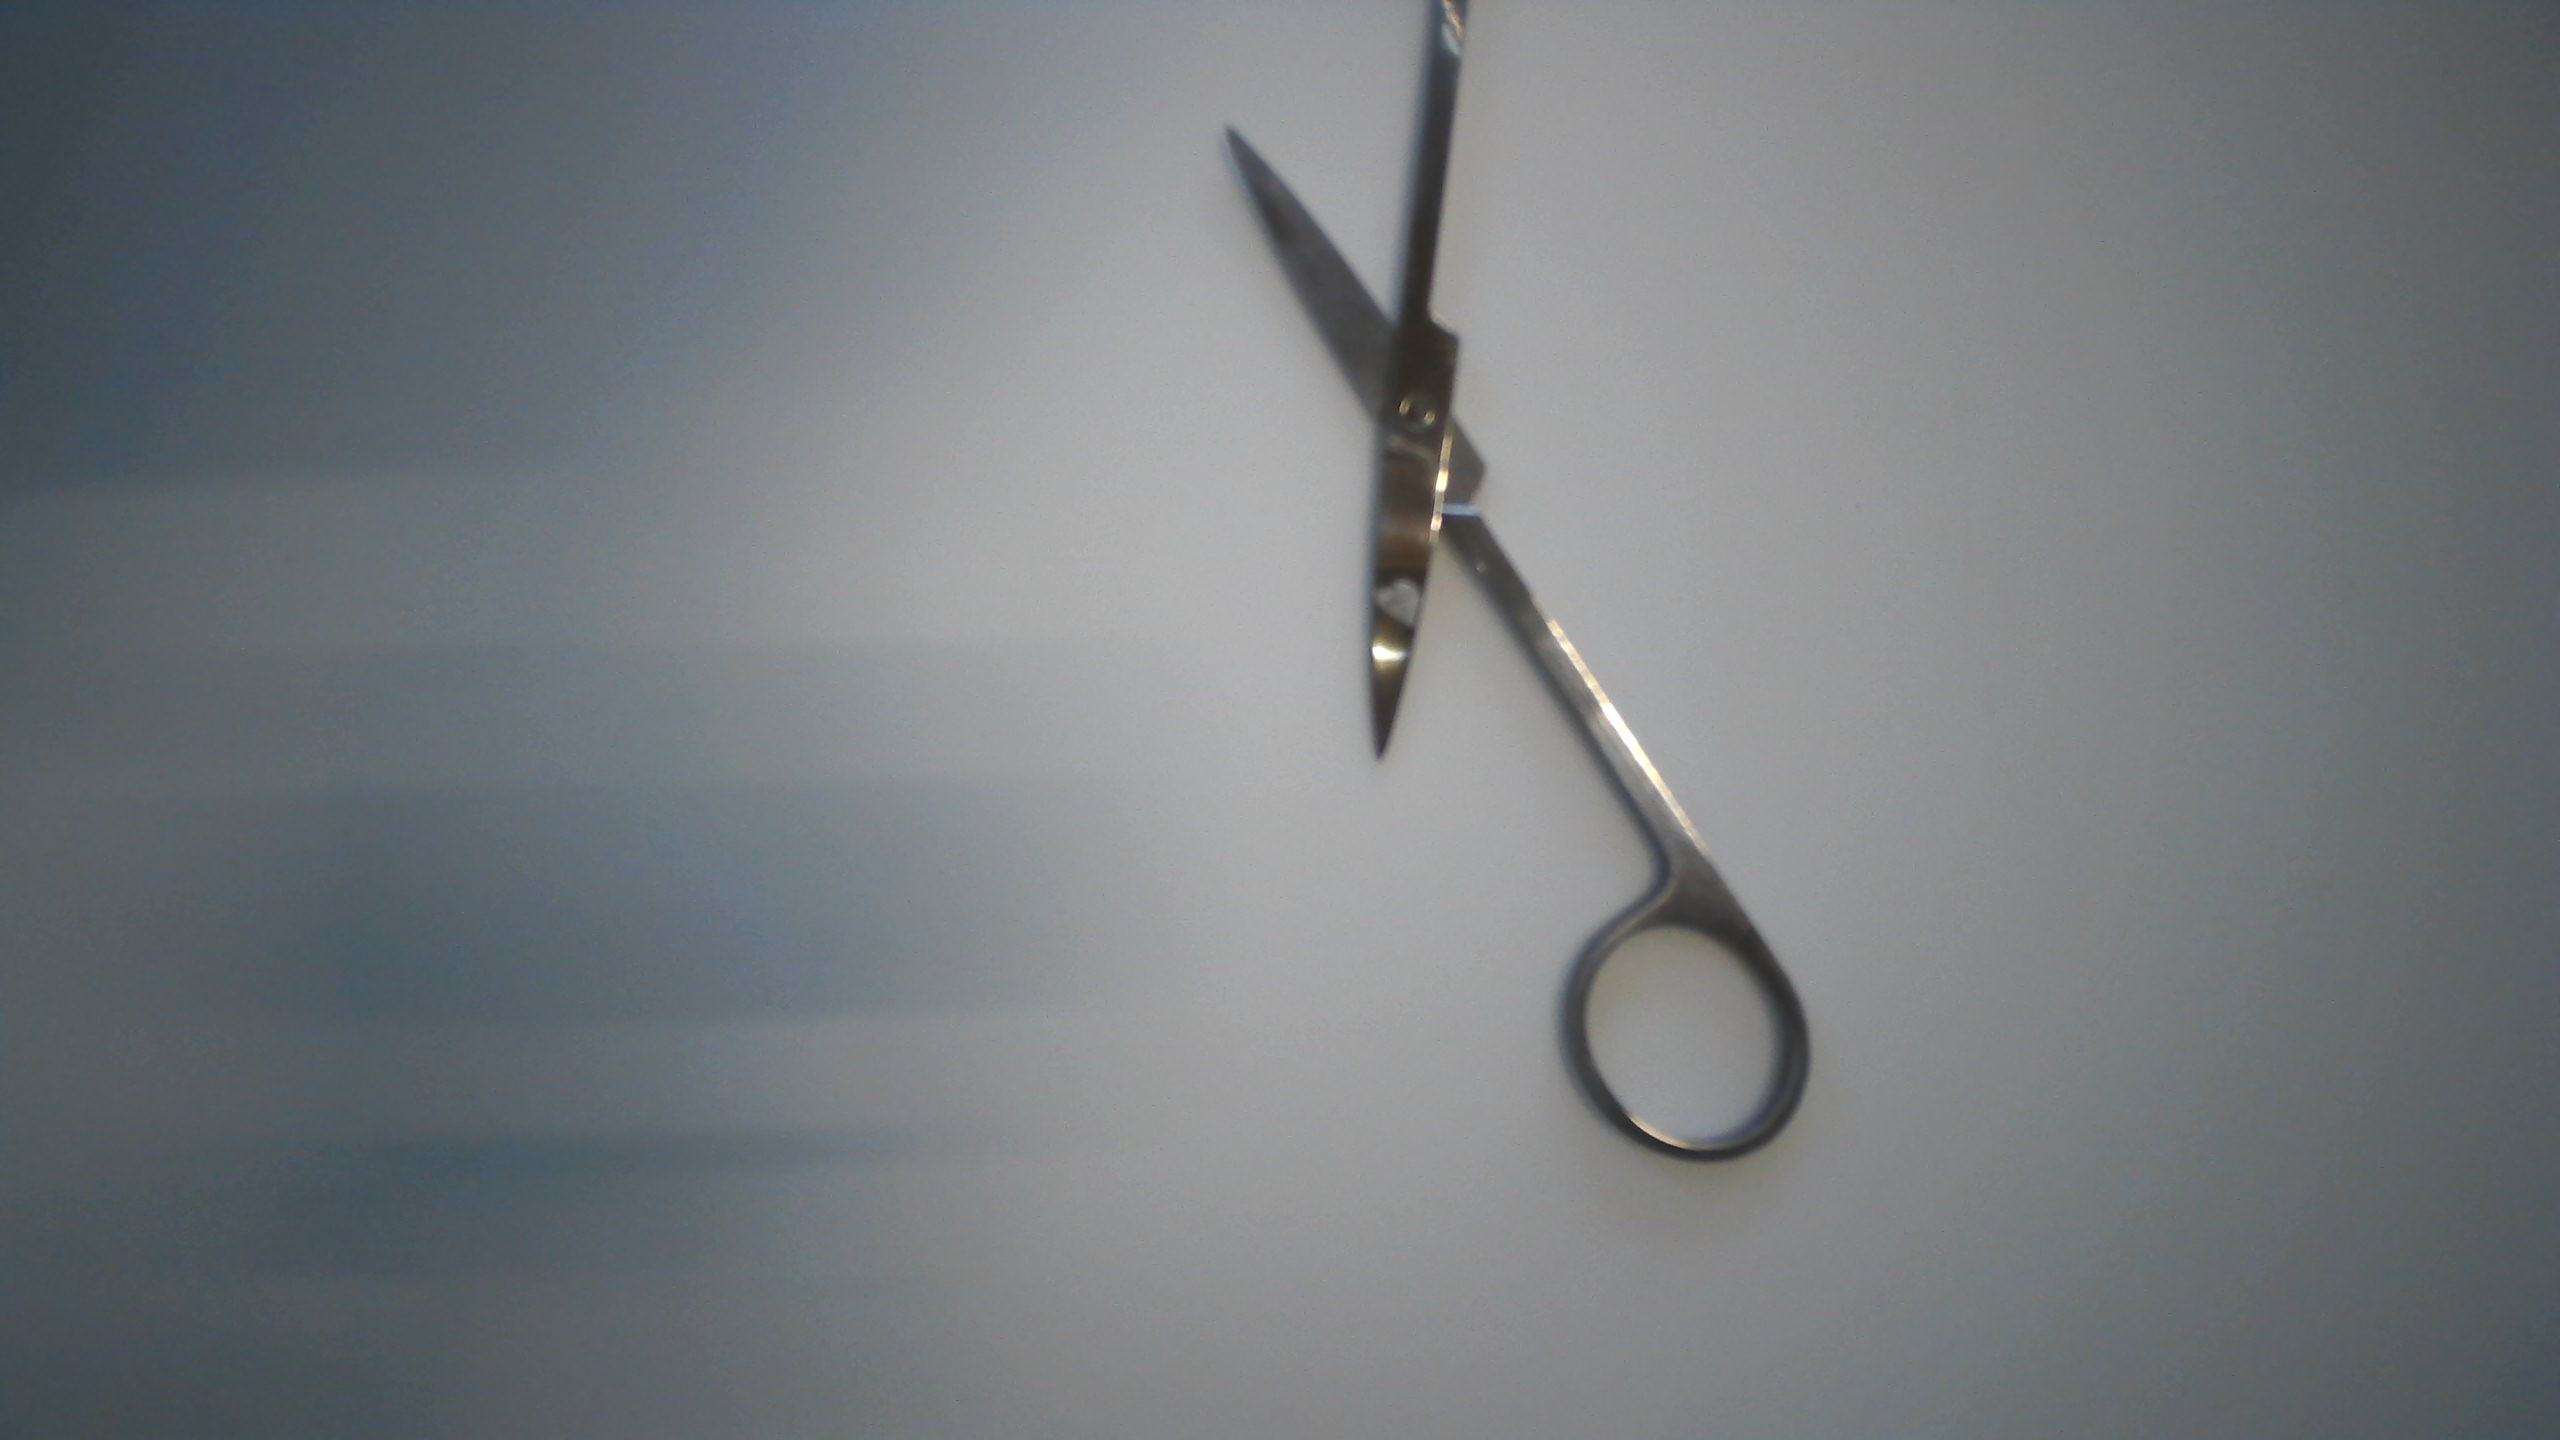Tissues: (1371, 573, 1426, 628)
